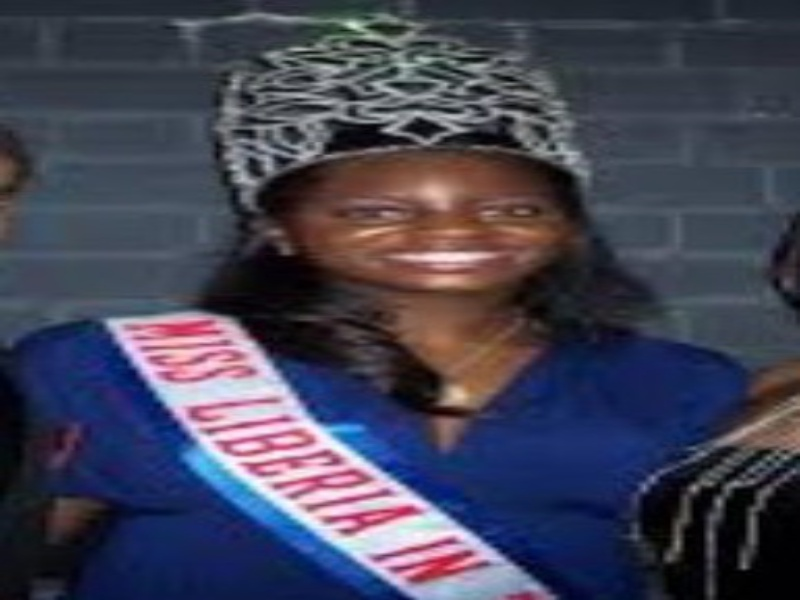TsisyArotava: (230, 43, 629, 375)
